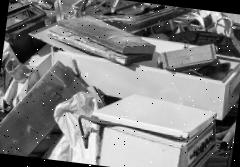electronic: (81, 82, 227, 167), (46, 2, 157, 85), (0, 44, 78, 161)
